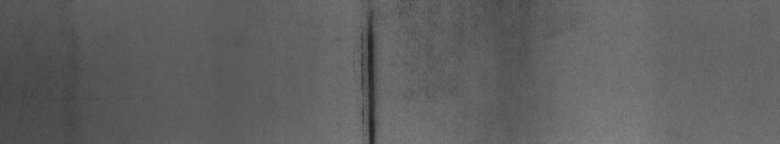hd: (353, 10, 384, 136)
